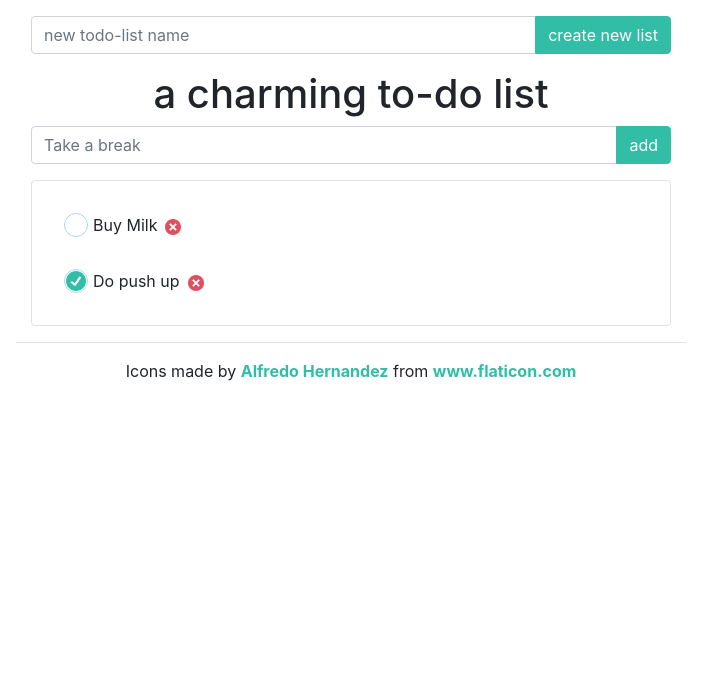
Test: App › should add a TodoList with a title
Type "new day new list" into the field with placeholder "new todo-list name". click: (284, 35)
box: [31, 16, 536, 54]
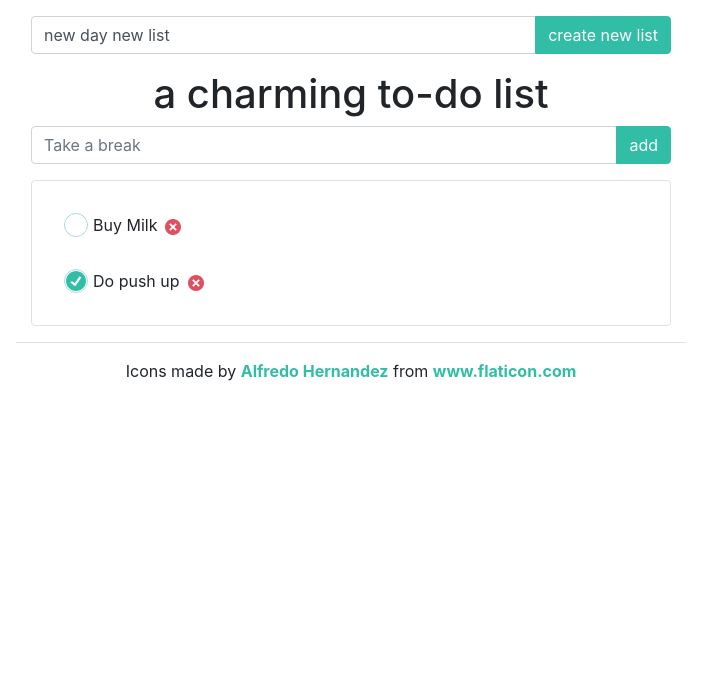
Click the button "create new list". click: click(603, 35)
box: [535, 16, 671, 54]
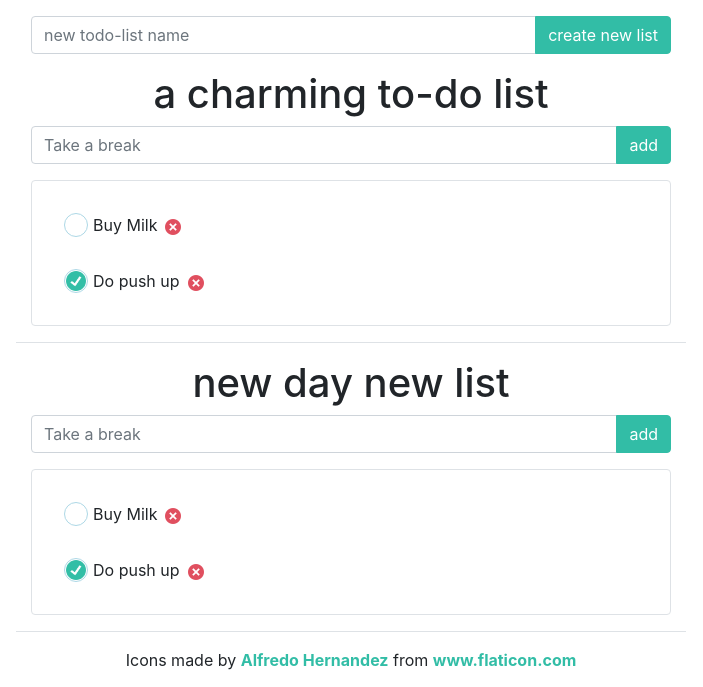
Expected: the heading "new day new list" is shown, [192, 358, 510, 407]
